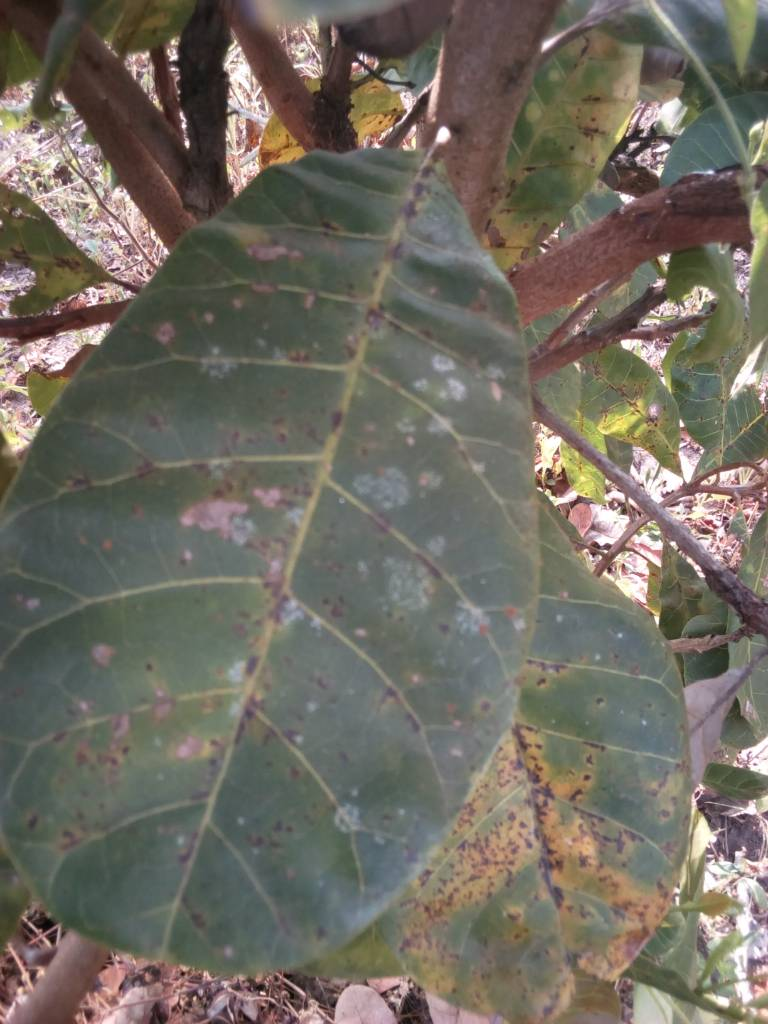Anthracnose: (11, 146, 571, 975), (347, 538, 686, 1008)
